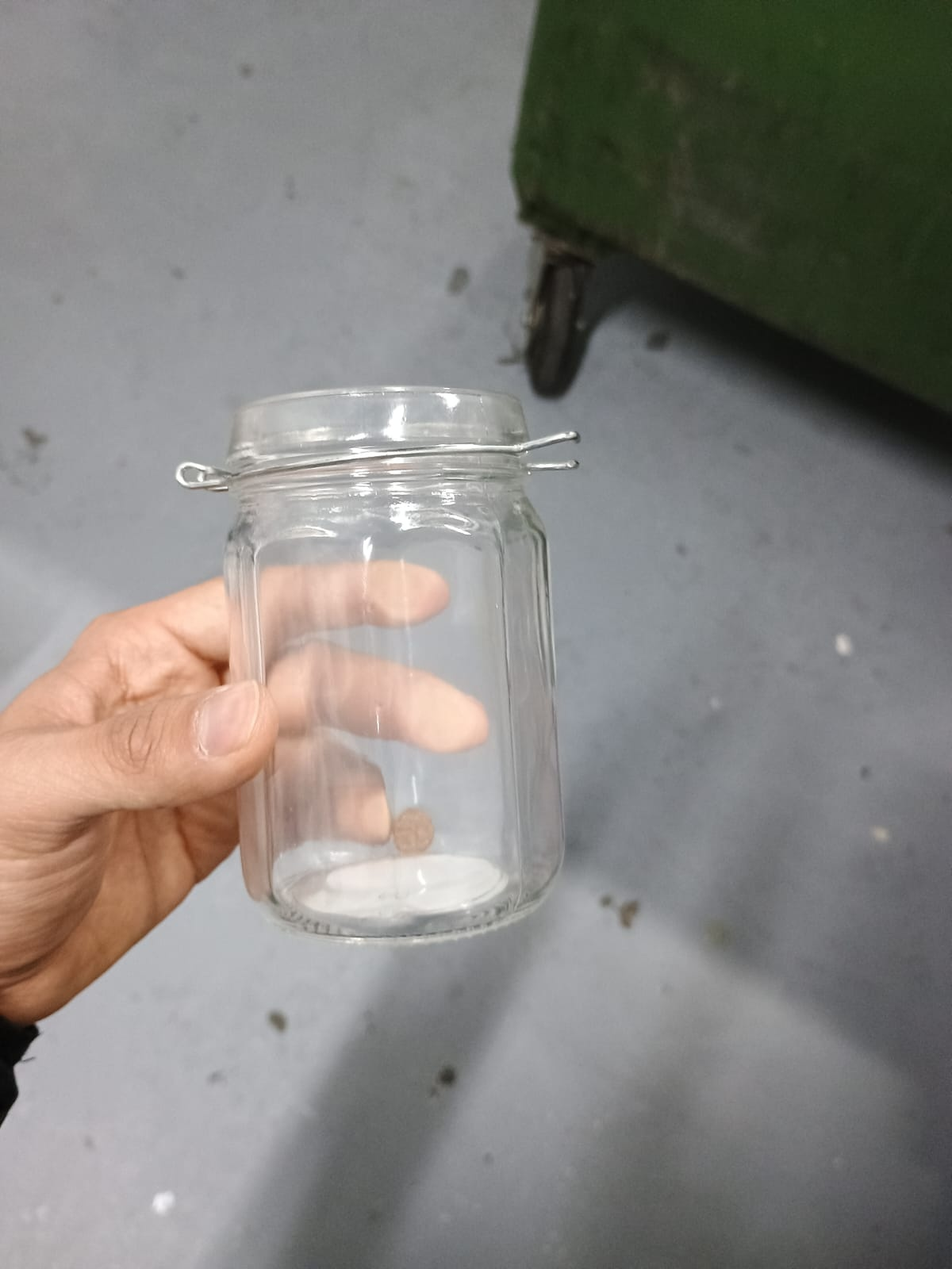Vidrio: (220, 382, 570, 945)
